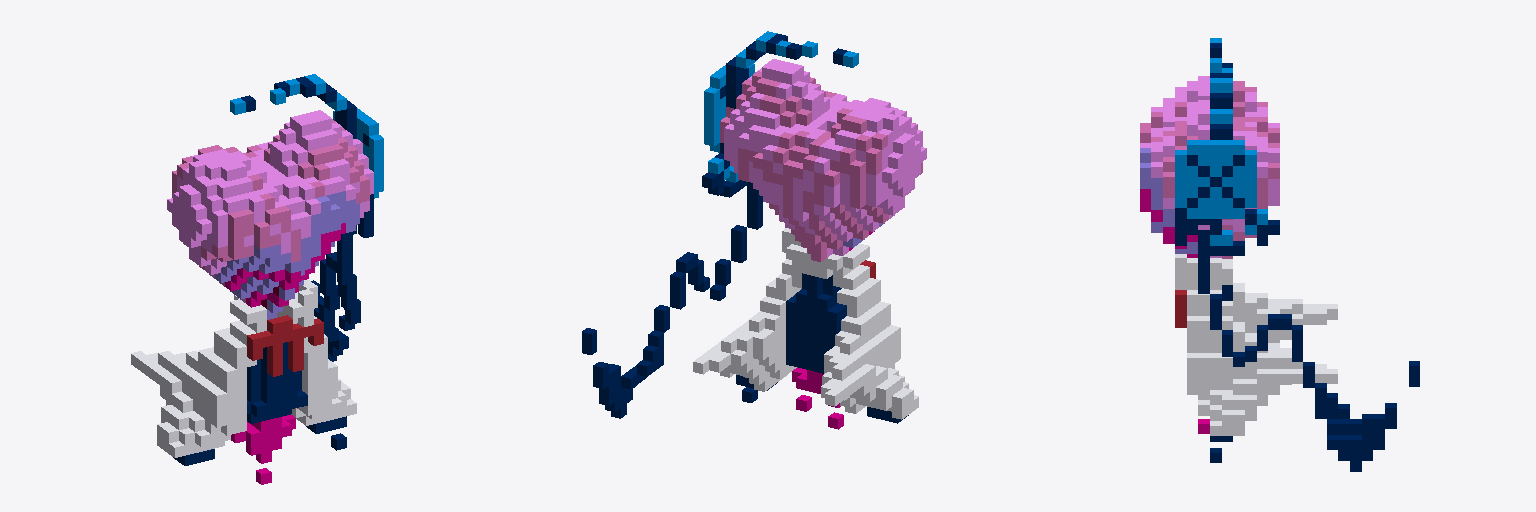
The picture shows the model from 3 angles: view 1: azimuth 30°, elevation 25°; view 2: azimuth 150°, elevation 25°; view 3: azimuth 270°, elevation 25°; orthographic projection.
Visible parts, largest first — view 1: object 1; view 2: object 1; view 3: object 1.
Boxes of the visible parts, box(x1,y1,x2,y2) form: object 1: box(131, 74, 383, 484); object 1: box(582, 31, 926, 429); object 1: box(1140, 38, 1419, 471).
Size of the model in its own units: 2.3 by 3.6 by 2.4.
1 materials, 1 textured.